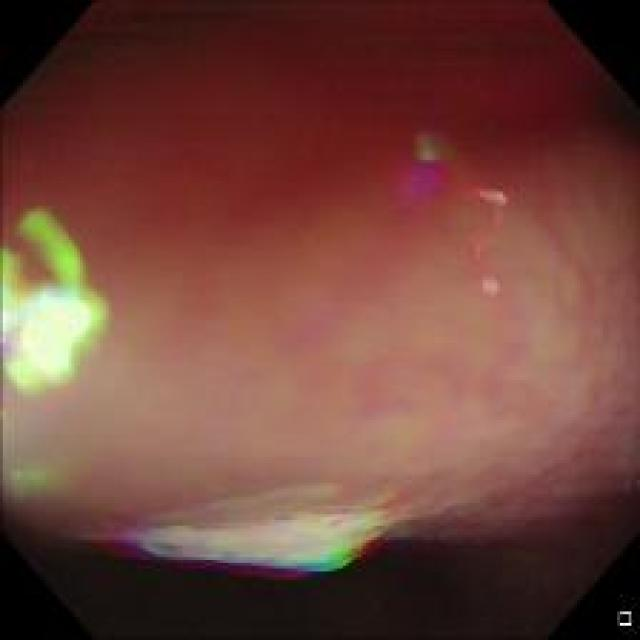blur: (4, 2, 636, 636)
color misalignment: (14, 19, 631, 632), (105, 489, 412, 581), (2, 202, 119, 409), (402, 138, 519, 302)
contrast: (16, 500, 621, 624)
